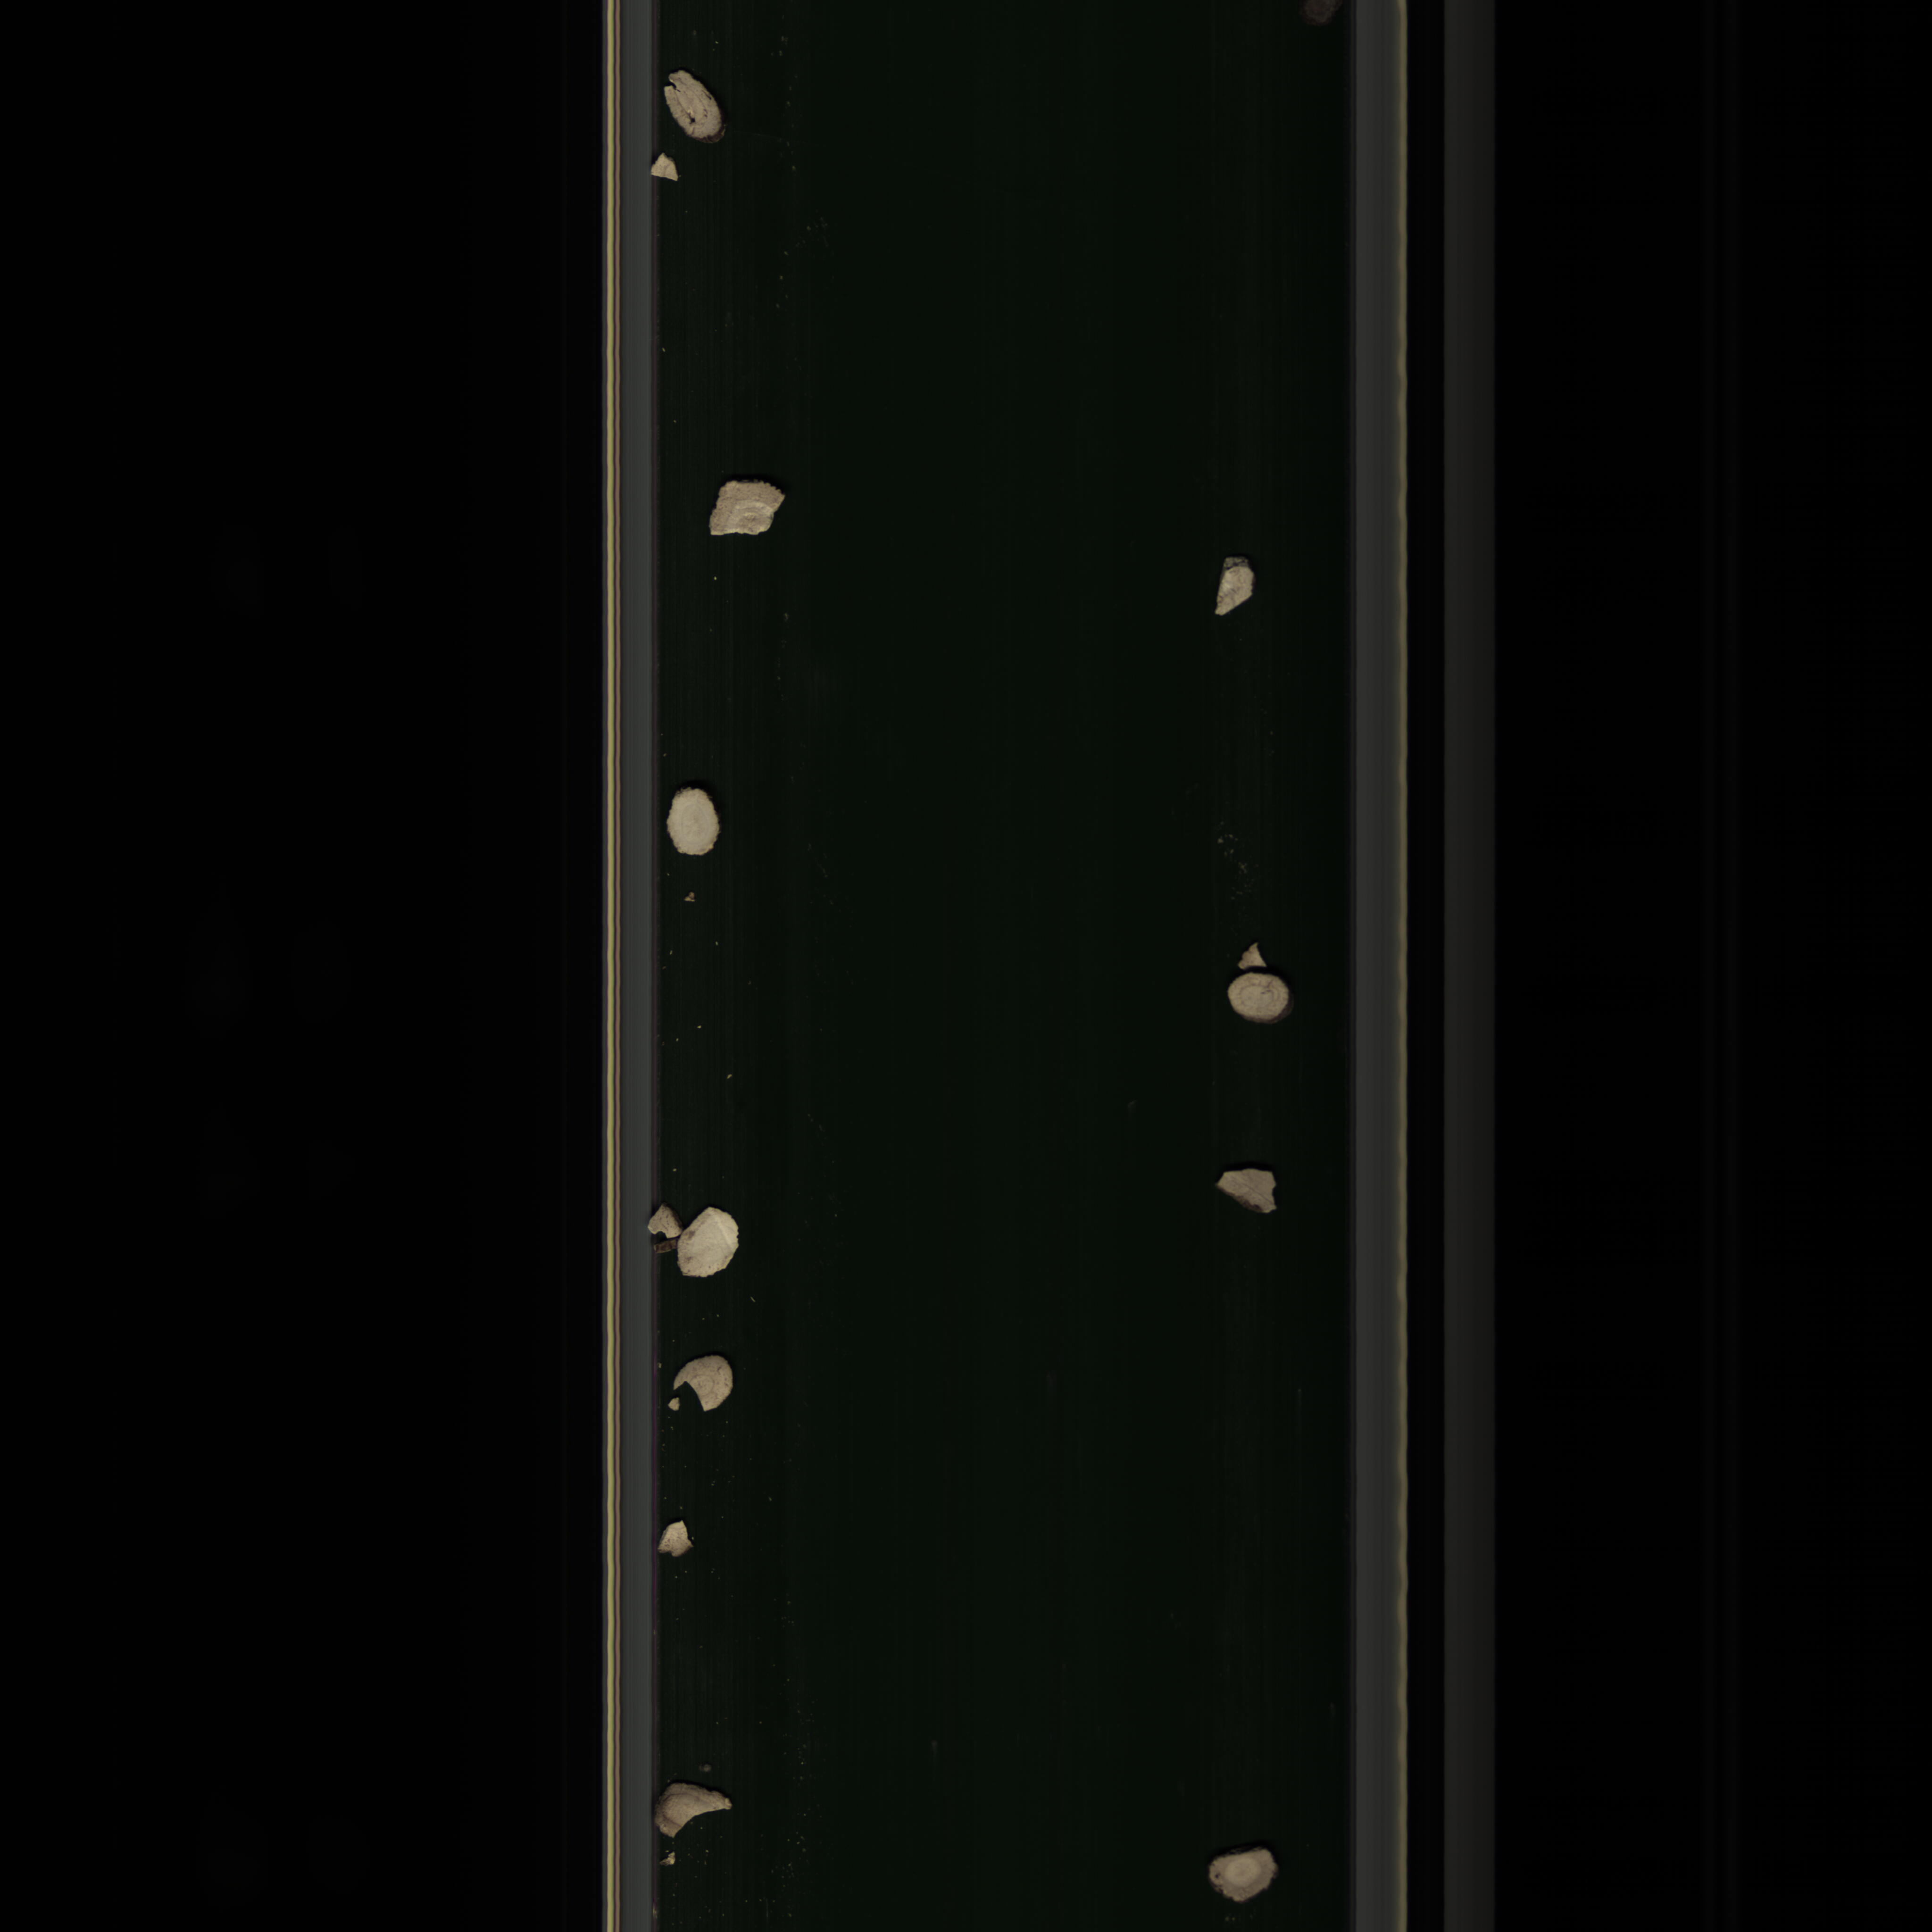debris: (701, 478, 801, 543), (656, 1775, 743, 1844), (1203, 1845, 1286, 1913), (1210, 1157, 1286, 1223), (671, 1345, 734, 1419), (1207, 547, 1261, 626), (656, 1520, 695, 1568)
